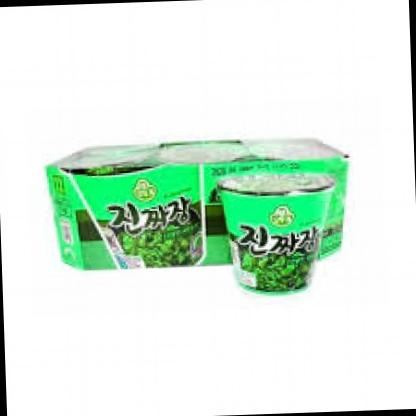Ramen: (212, 162, 345, 302)
